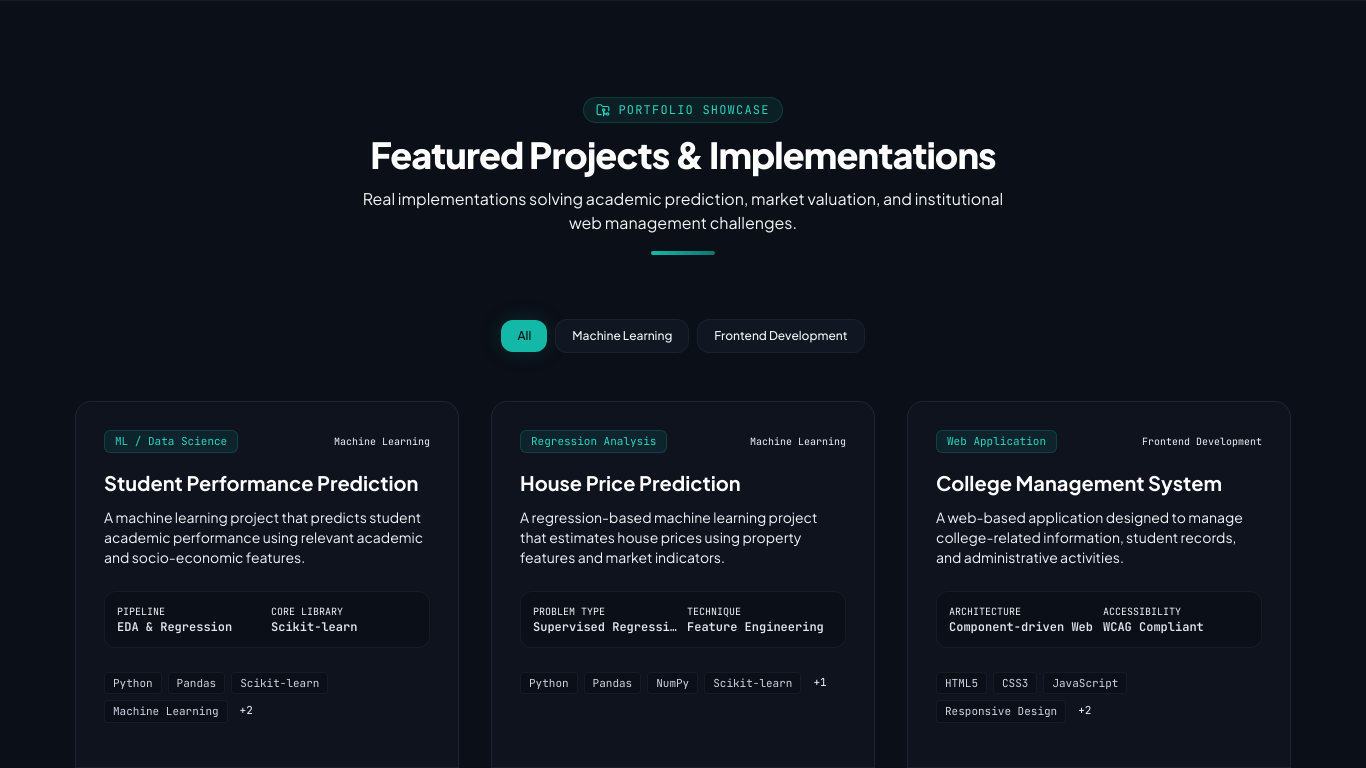
Test: Khan Sher Portfolio - Multi-Page Routing & Verification Suite › 3. Projects Filtering & Modal Interactions › filters projects by category
The image size is (1366, 768).
Check: the heading "Student Performance Prediction" is shown, box [104,468,430,496]
Check: the heading "House Price Prediction" is shown, box [520,470,741,494]
# Machine Learning filter
Click the button "Machine Learning".
click(622, 336)  # box [555,319,689,353]
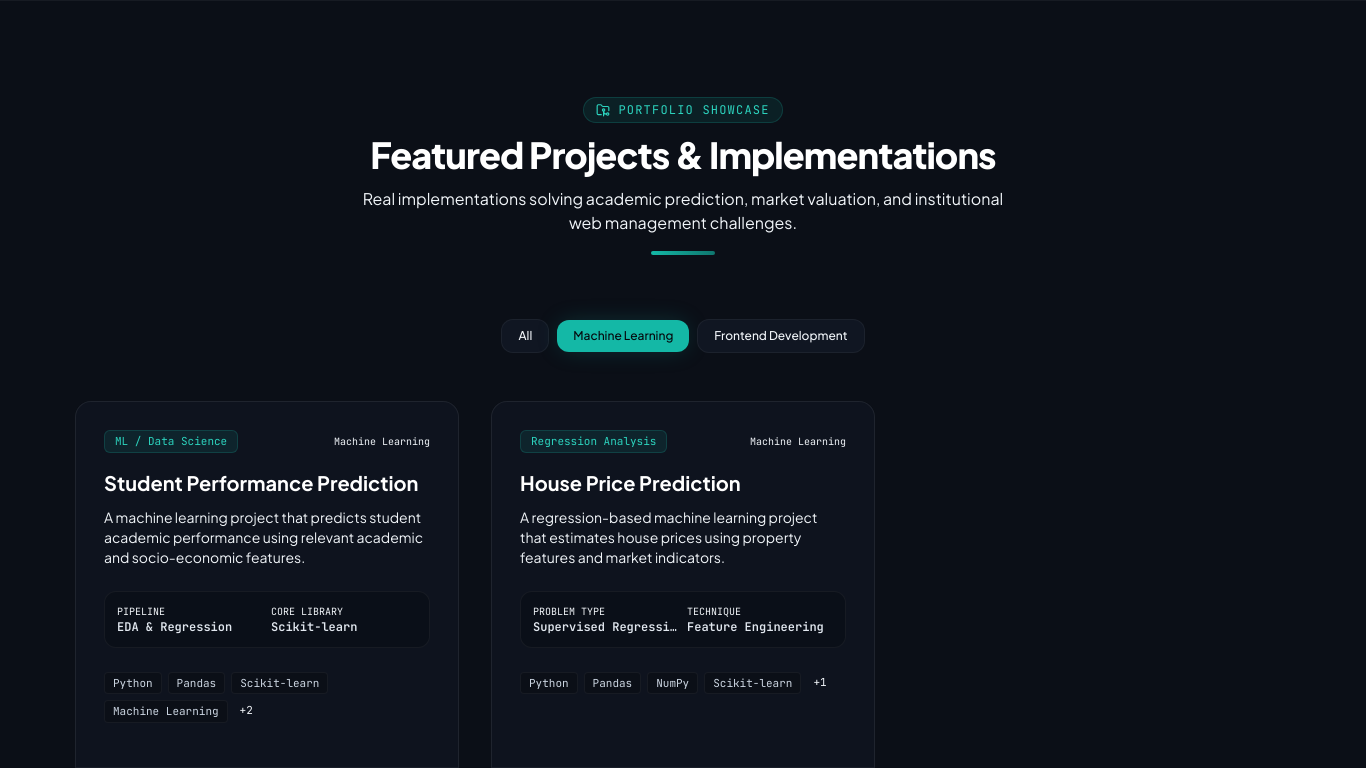
Check: the heading "Student Performance Prediction" is shown, box [104,468,430,496]
Check: the heading "College Management System" is gone
# Frontend filter
Click the button "Frontend Development".
click(781, 336)  # box [697,319,864,353]
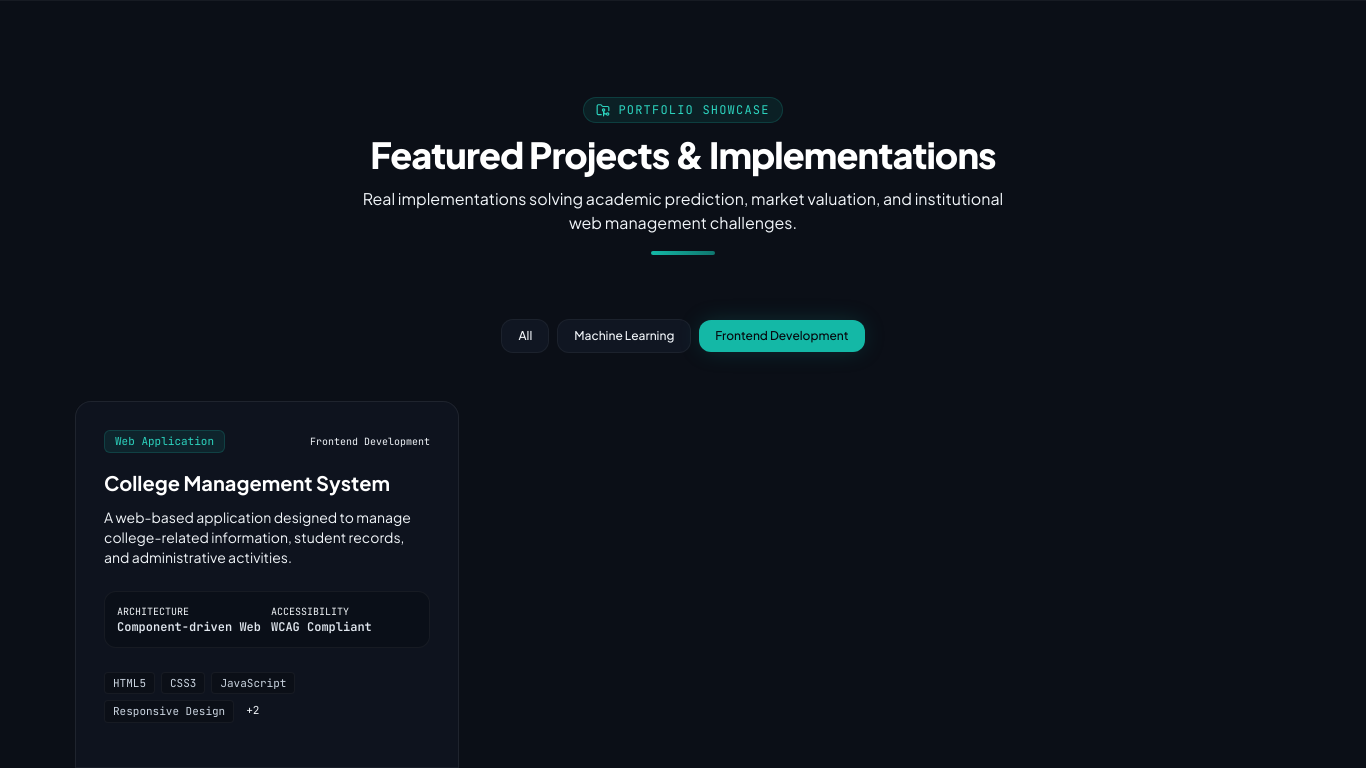
Check: the heading "College Management System" is shown, box [104,468,430,496]
Check: the heading "Student Performance Prediction" is gone
